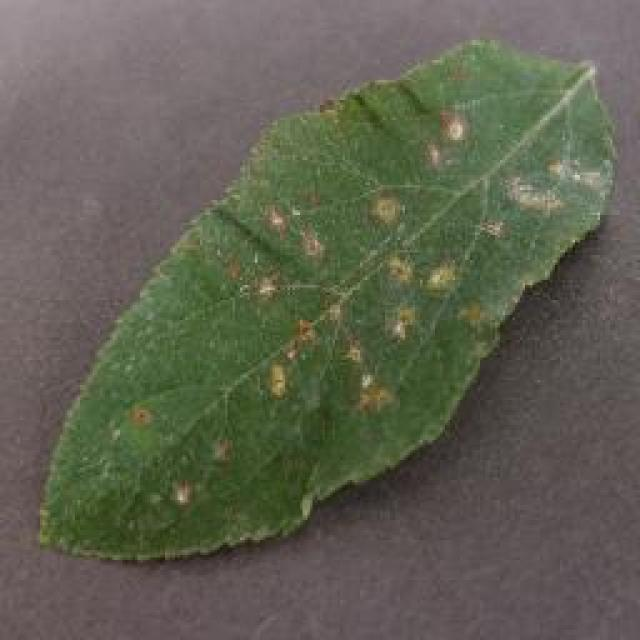apple scab disease: (35, 32, 617, 562)
